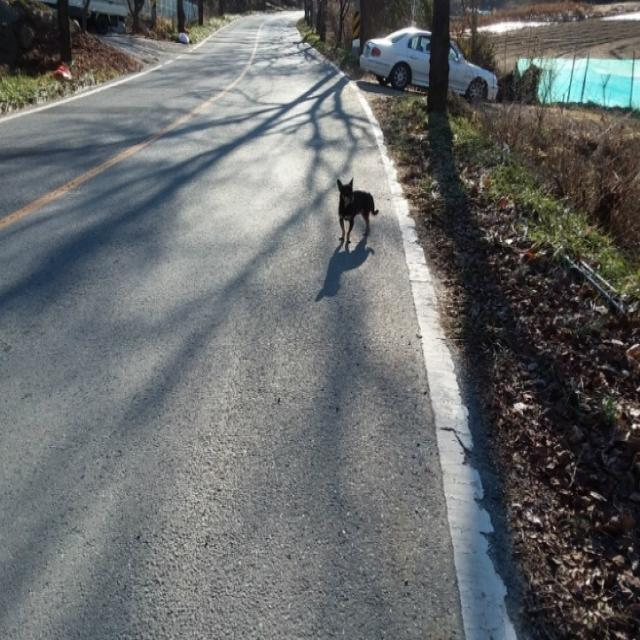dog: (337, 180, 379, 243)
